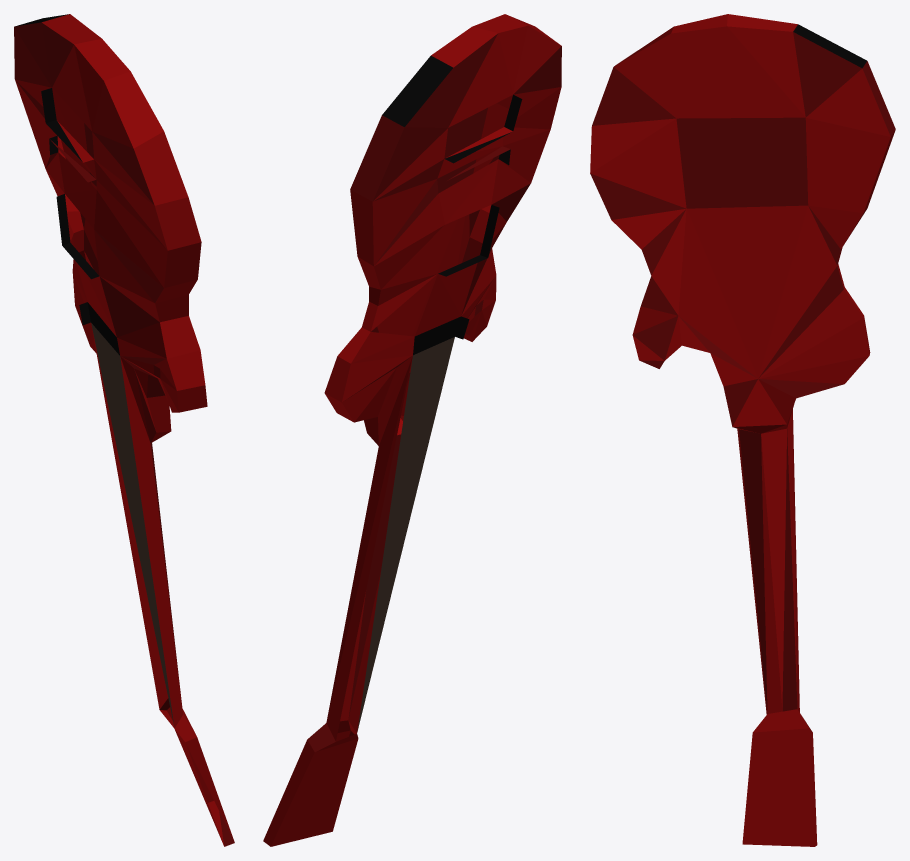
File: 1_Guitar_260725.glb
3 views of the same model, side by side, from view 1: azimuth 30°, elevation 25°; view 2: azimuth 150°, elevation 25°; view 3: azimuth 270°, elevation 25° (orthographic). The views are drawn at different scales.
Parts seen in each view (by area): view 1: Cube.002; view 2: Cube.002; view 3: Cube.002.
Part boxes in pixels (x1,y1,x2,y2): Cube.002: (14,14,234,846); Cube.002: (263,14,561,846); Cube.002: (590,14,895,846).
Size of the model in its own units: 0.4976 by 2.01 by 0.7339.
